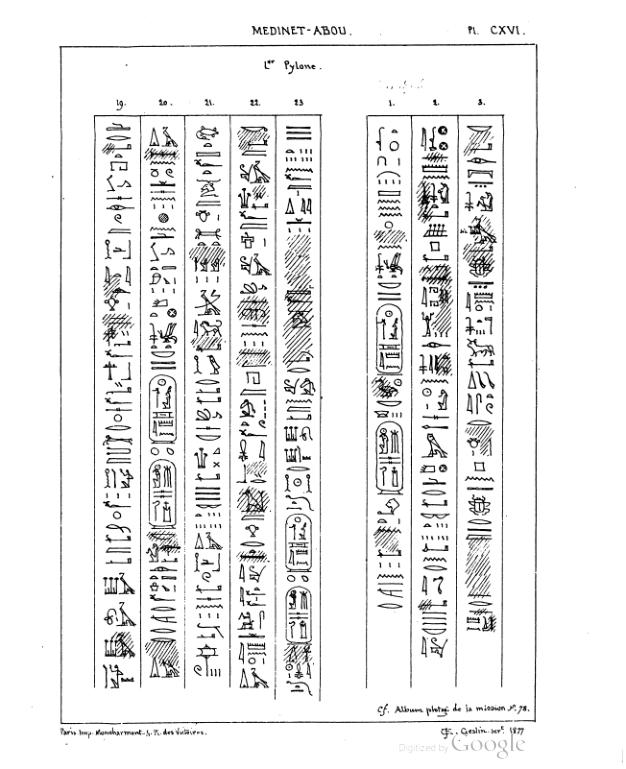circle: (371, 302, 409, 376), (146, 456, 181, 531), (374, 418, 407, 496), (144, 373, 178, 447), (281, 585, 318, 644), (283, 511, 317, 574)
